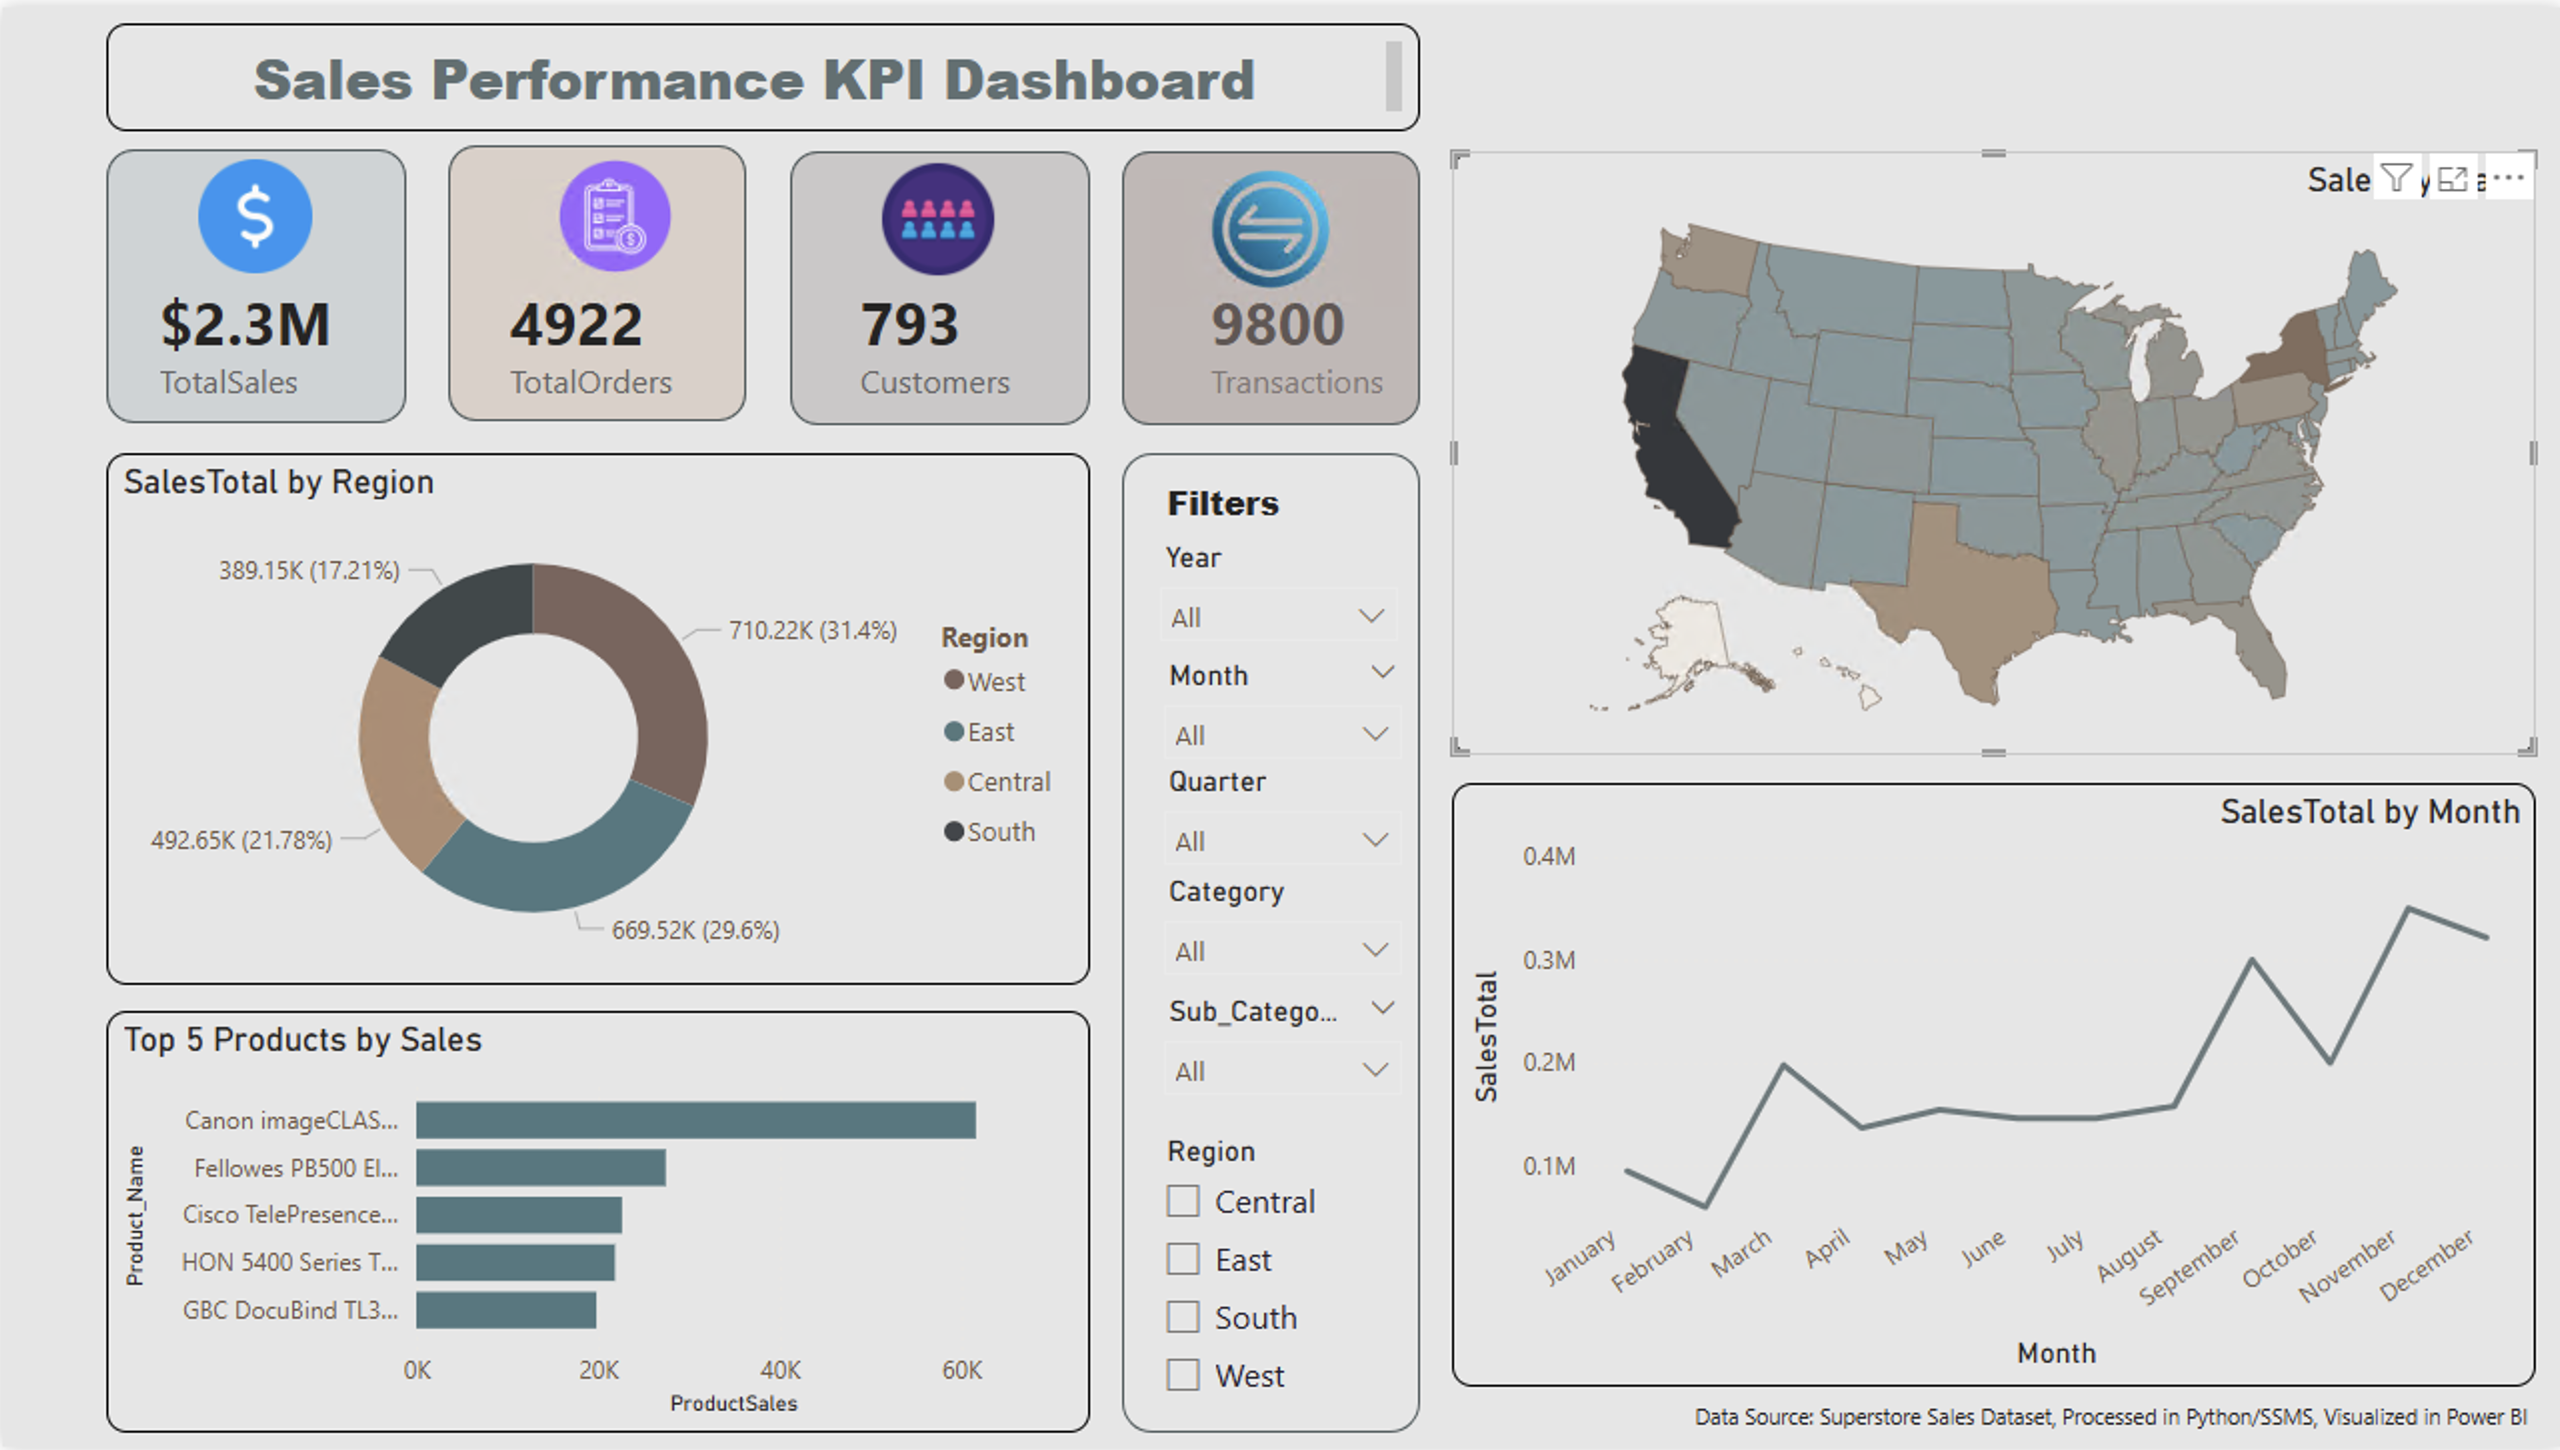

This screenshot's page, from the dashboard's own definition file:
{"tool":"powerbi","page":{"name":"Sales KPI","canvas":[1280,720],"ordinal":0},"visuals":[{"type":"donutChart","fields":{"Category":["sales_data.Region"],"Y":["sales_data.SalesTotal"]},"box":[52.3,223.4,491.2,265.1],"z":0},{"type":"barChart","title":"Top 5 Products by Sales","fields":{"Category":["sales_data.Product_Name"],"Y":["sales_data.ProductSales"]},"box":[52.3,501.9,491.2,211],"z":1000},{"type":"lineChart","fields":{"Category":["sales_data.Order_Date.Variation.Date Hierarchy.Month"],"Y":["sales_data.SalesTotal"]},"box":[725.3,388.4,541.8,301.5],"z":2000},{"type":"textbox","box":[52.3,8,657,54.1],"z":3000},{"type":"shapeMap","title":"Sales by State","fields":{"Category":["sales_data.State"],"Value":["sales_data.SalesTotal"]},"box":[725.3,71.8,541.8,302.4],"z":4000},{"type":"shape","box":[52.3,71,149.8,137.4],"z":5000},{"type":"shape","box":[393.7,71.8,149.8,137.4],"z":6000},{"type":"shape","box":[222.6,69.2,149.8,137.4],"z":7000},{"type":"image","box":[68.3,70.9,117.9,67.4],"z":8000},{"type":"multiRowCard","fields":{"Values":["sales_data.TotalSales","sales_data.TotalOrders","sales_data.Customers","sales_data.Transactions"]},"box":[74.5,132.1,710.2,113.5],"z":9000},{"type":"image","box":[268.7,70.9,76.3,67.4],"z":10000},{"type":"image","box":[430.1,70.9,77.1,70],"z":11000},{"type":"shape","box":[559.5,223.4,149,489.5],"z":12000},{"type":"slicer","fields":{"Values":["sales_data.Order_Date.Variation.Date Hierarchy.Year"]},"box":[569.3,261.6,139.2,59.4],"z":13000},{"type":"slicer","fields":{"Values":["sales_data.Order_Date.Variation.Date Hierarchy.Month"]},"box":[571,321,139.2,59.4],"z":14000},{"type":"slicer","fields":{"Values":["sales_data.Region"]},"box":[570.1,558.6,138.3,154.3],"z":15000},{"type":"slicer","fields":{"Values":["sales_data.Category"]},"box":[571,429.2,139.2,59.4],"z":16000},{"type":"slicer","fields":{"Values":["sales_data.Order_Date.Variation.Date Hierarchy.Quarter"]},"box":[571,374.2,139.2,59.4],"z":17000},{"type":"slicer","fields":{"Values":["sales_data.Sub_Category"]},"box":[571,488.6,139.2,59.4],"z":18000},{"type":"shape","box":[559.5,71.8,149.8,137.4],"z":19000},{"type":"image","box":[494.8,71.8,279.3,78.9],"z":20000},{"type":"textbox","box":[578.1,231.4,125.9,38.1],"z":20001},{"type":"textbox","box":[842.4,689.9,438,30.1],"z":20002}]}

Visuals, with their boxes in screenshot pixels (x1, y1, x2, y2), scaled from the page's 1280x720 canvas onto the 2560x1450 screenshot:
donutChart - sales_data.Region x sales_data.SalesTotal: [105, 450, 1087, 984]
"Top 5 Products by Sales" barChart: [105, 1011, 1087, 1436]
lineChart - sales_data.Order_Date.Variation.Date Hierarchy.Month x sales_data.SalesTotal: [1451, 782, 2534, 1389]
textbox: [105, 16, 1419, 125]
"Sales by State" shapeMap: [1451, 145, 2534, 754]
shape: [105, 143, 404, 420]
shape: [787, 145, 1087, 421]
shape: [445, 139, 745, 416]
image: [137, 143, 372, 279]
multiRowCard - sales_data.TotalSales x sales_data.TotalOrders: [149, 266, 1569, 495]
image: [537, 143, 690, 279]
image: [860, 143, 1014, 284]
shape: [1119, 450, 1417, 1436]
slicer - sales_data.Order_Date.Variation.Date Hierarchy.Year: [1139, 527, 1417, 646]
slicer - sales_data.Order_Date.Variation.Date Hierarchy.Month: [1142, 646, 1420, 766]
slicer - sales_data.Region: [1140, 1125, 1417, 1436]
slicer - sales_data.Category: [1142, 864, 1420, 984]
slicer - sales_data.Order_Date.Variation.Date Hierarchy.Quarter: [1142, 754, 1420, 873]
slicer - sales_data.Sub_Category: [1142, 984, 1420, 1104]
shape: [1119, 145, 1419, 421]
image: [990, 145, 1548, 303]
textbox: [1156, 466, 1408, 543]
textbox: [1685, 1389, 2559, 1449]
